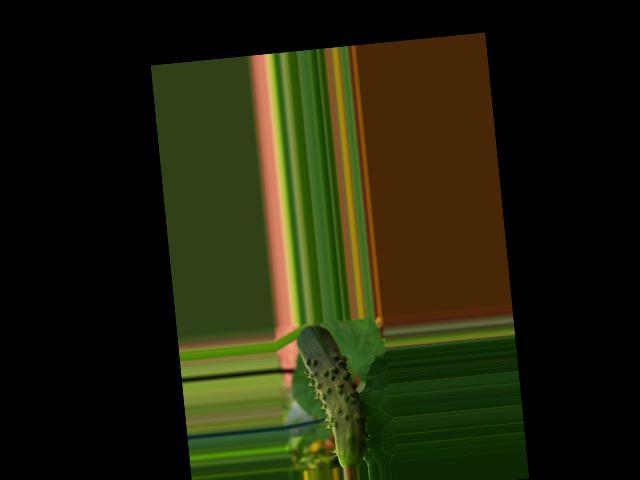cucumber: (296, 320, 371, 470)
